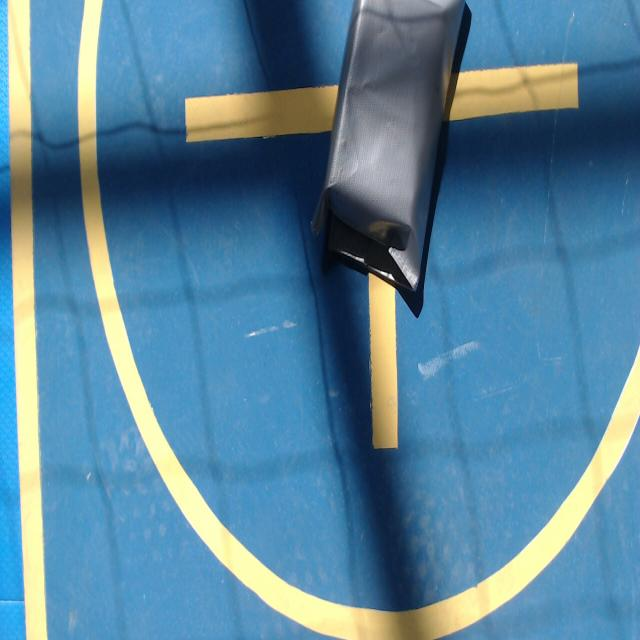lipo: (312, 0, 464, 290)
